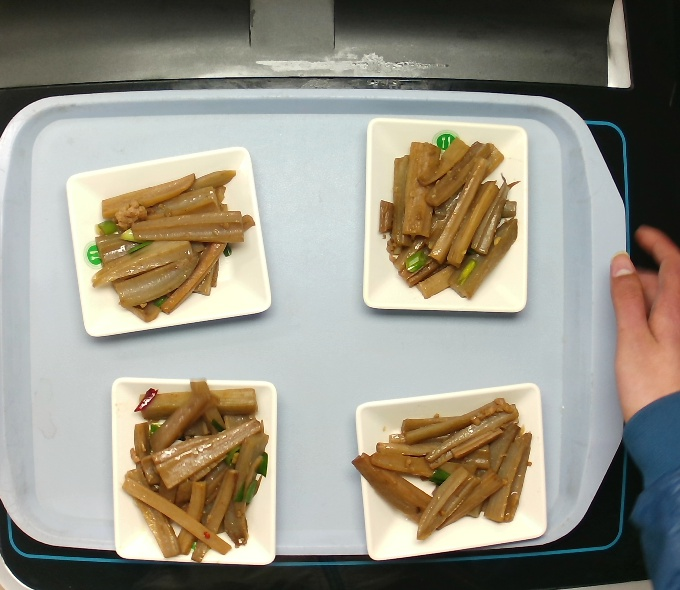wcq-QingChaoOuKuai: (80, 162, 259, 316), (374, 131, 526, 304), (123, 382, 265, 557), (361, 393, 532, 531)
